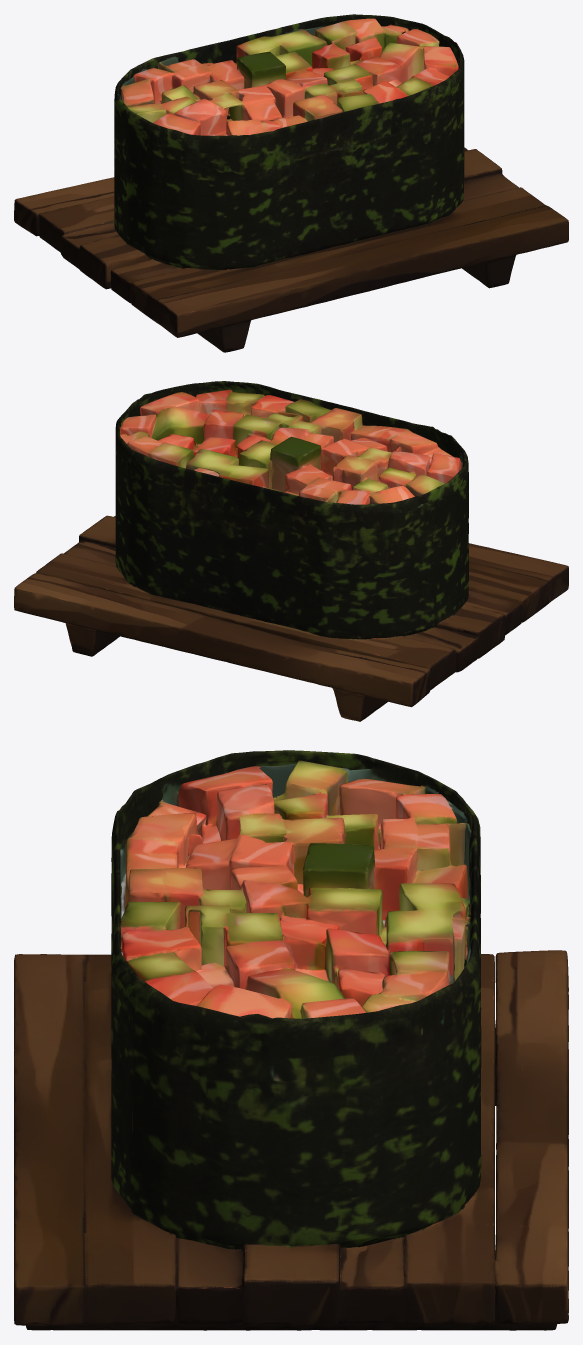
The model's file is gunkan_tartar.glb.
3 views of the same model, one above another, from view 1: azimuth 30°, elevation 25°; view 2: azimuth 150°, elevation 25°; view 3: azimuth 270°, elevation 25° (orthographic). The views are drawn at different scales.
Visible parts, largest first — view 1: world; view 2: world; view 3: world.
Part boxes in pixels (x1=…): world: x1=14, y1=14, x2=568, y2=352; world: x1=14, y1=381, x2=568, y2=721; world: x1=14, y1=750, x2=568, y2=1330.
Bounding box in the file's own units: 1 × 0.4743 × 0.7006.
1 material, 1 textured.
